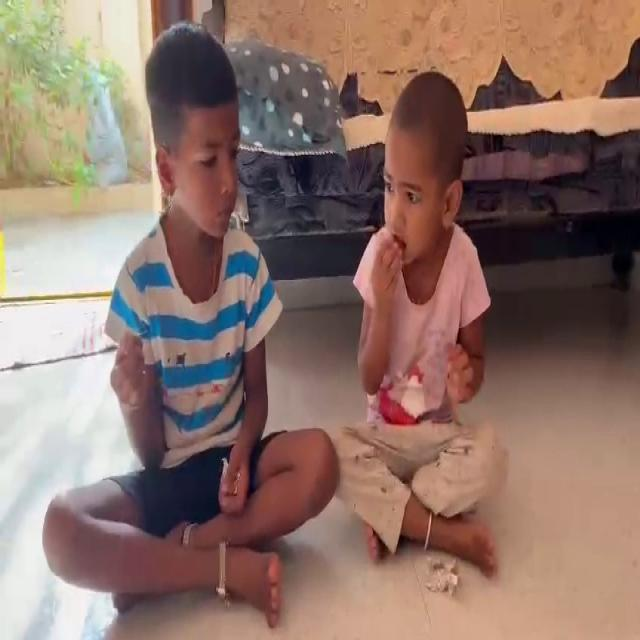child: (35, 0, 330, 634), (359, 41, 498, 568)
